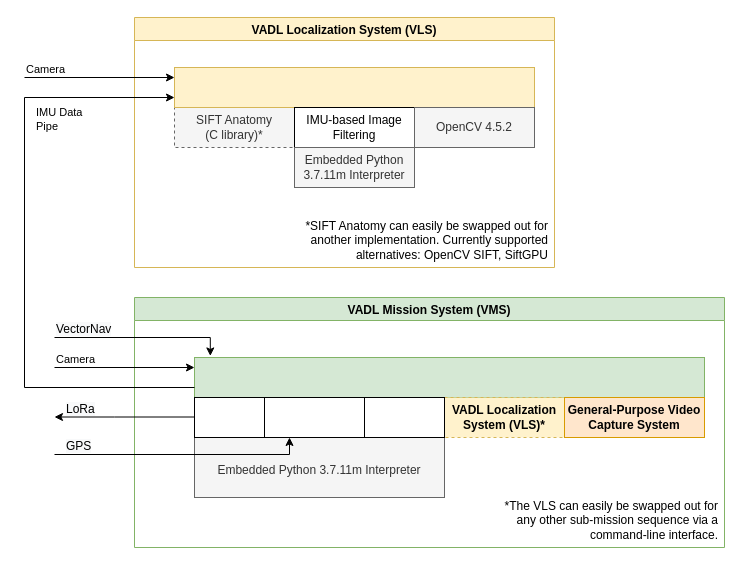
Image size: 742x565. Some labels were removed from this diagram. The shapes that lost their labels are listed below. From the top down, each one's centre as x and y in pixels, then its label:
At pixel 354 87: "VADL Data Processing System (VDPS)".
At pixel 449 377: "Primary Mission System".
At pixel 229 417: "Radio Subsystem".
At pixel 314 417: "GPS Verification Subsystem".
At pixel 404 417: "Grid Mapping Subsystem".
